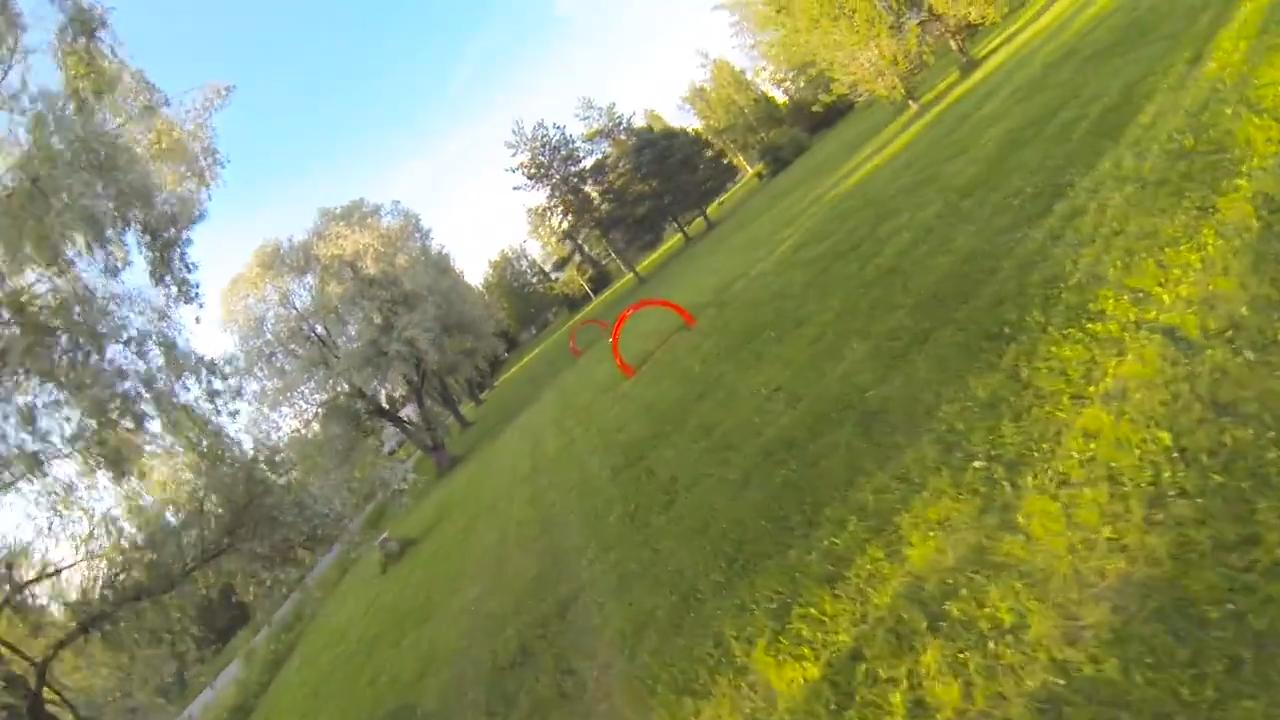gate: (608, 297, 697, 379)
